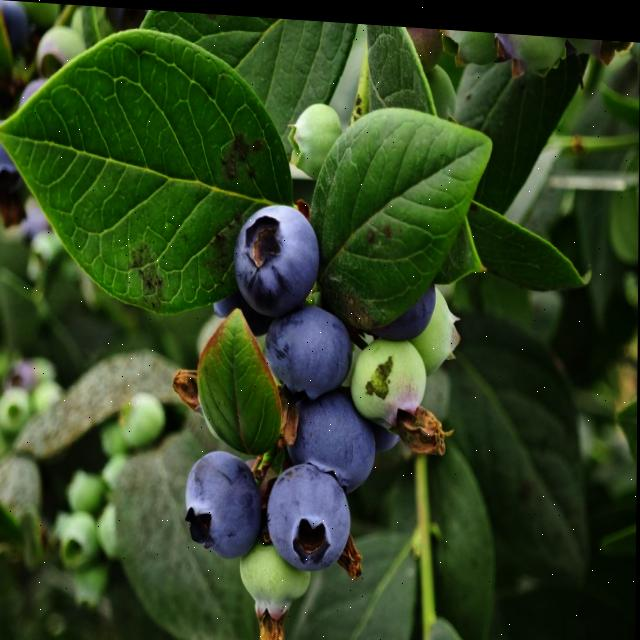RipeBlueBerry: (270, 456, 357, 570), (235, 197, 318, 315), (187, 446, 263, 559), (266, 300, 352, 397)
UnripeBlueBerry: (353, 328, 432, 431), (288, 98, 342, 170)
